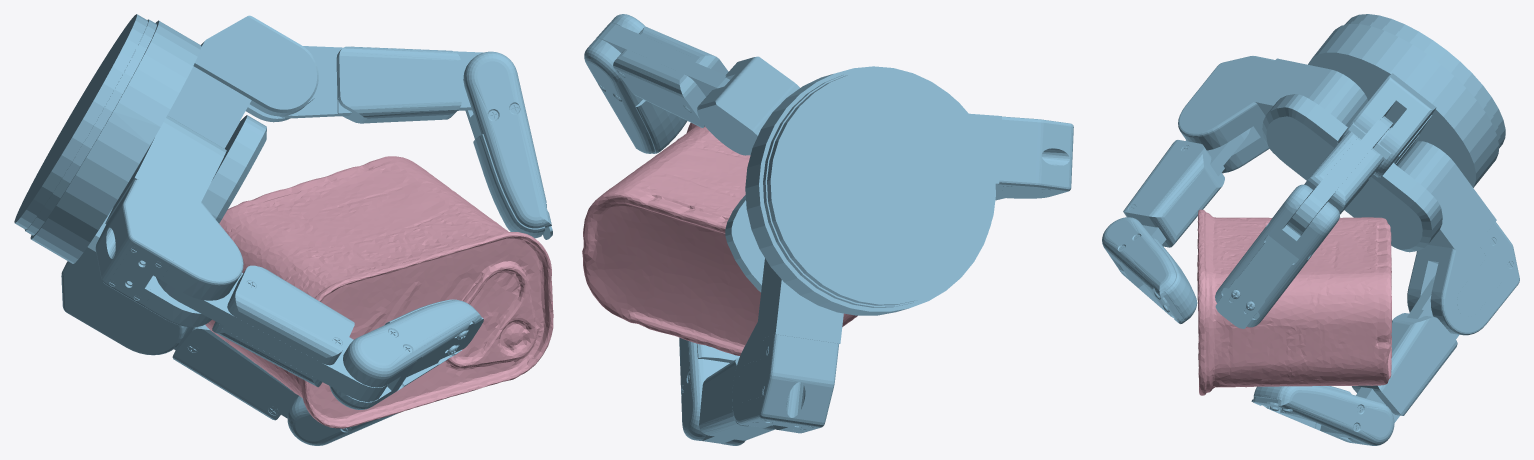
3 renders of one model, left to right at view 1: azimuth 30°, elevation 25°; view 2: azimuth 150°, elevation 25°; view 3: azimuth 270°, elevation 25°, orthographic. The views are drawn at different scales.
Visible parts, largest first — view 1: world; view 2: world; view 3: world.
Boxes of the visible parts, box(x1,y1,x2,y2) form: world: box(14, 14, 553, 445); world: box(582, 14, 1073, 445); world: box(1102, 14, 1519, 445).
Size of the model in its own units: 0.1832 by 0.1699 by 0.1794.
